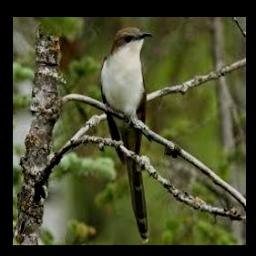Cuckoo: (99, 27, 149, 242)
